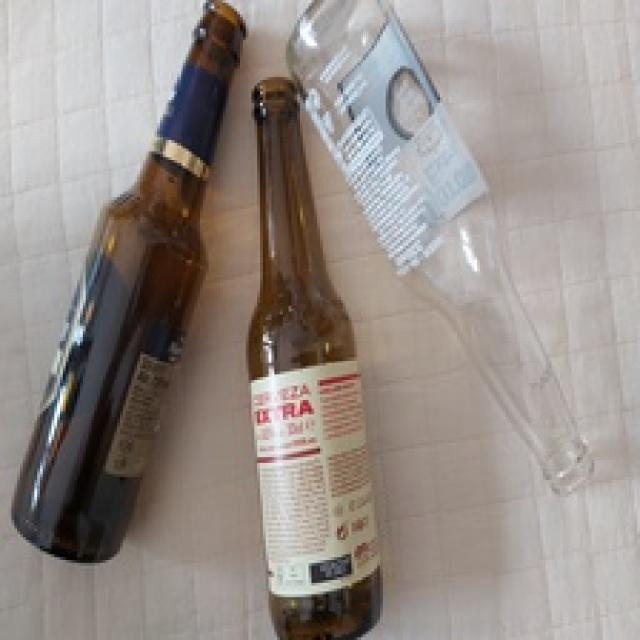Glass: (285, 0, 594, 495), (8, 0, 252, 563), (244, 78, 386, 640)
